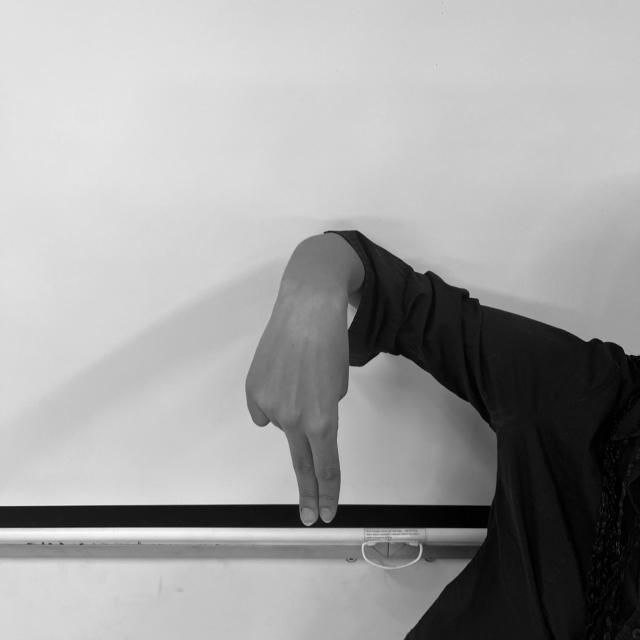Letra N: (242, 296, 356, 528)
